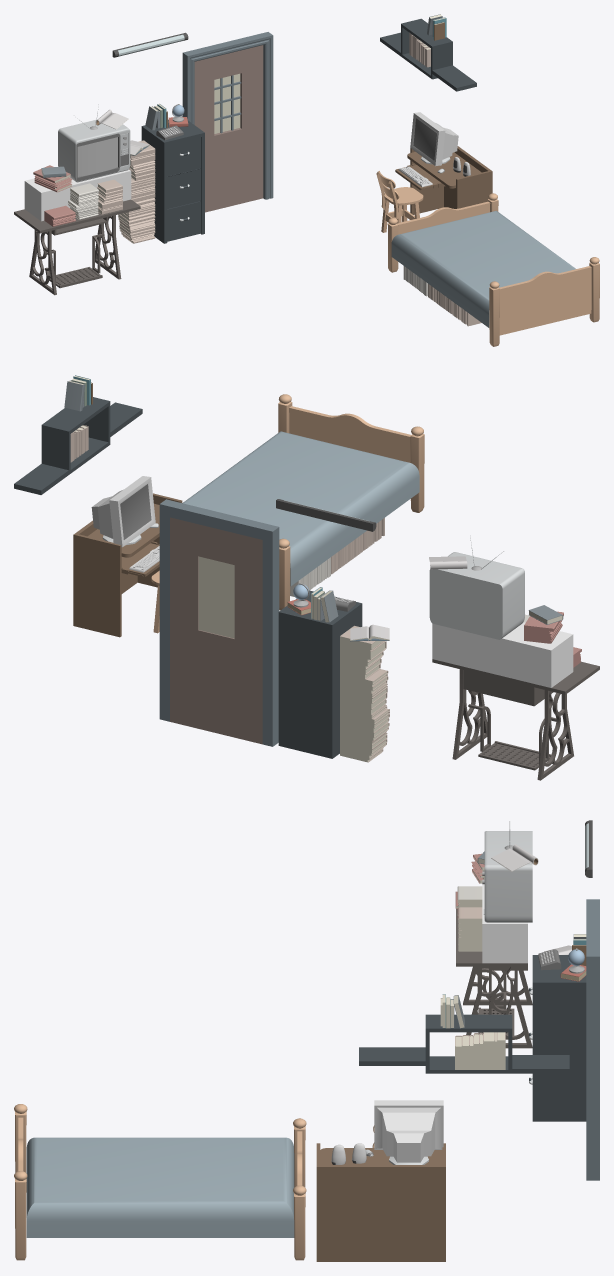
The model's file is Room.fbx.
The picture shows the model from 3 angles, top to bottom: view 1: azimuth 30°, elevation 25°; view 2: azimuth 150°, elevation 25°; view 3: azimuth 270°, elevation 25°; orthographic projection. The views are drawn at different scales.
Visible parts, largest first — view 1: Bed, Door, Filing_Cabinet, Metal_Rack, TV, Desktop_Table, Doorway, Book_Rack, Tall_Book_Pile, TV_Box, Monitor_Head, Chair (+8 smaller); view 2: Bed, Door, Filing_Cabinet, Doorway, Metal_Rack, Desktop_Table, TV, TV_Box, Tall_Book_Pile, Book_Rack, Monitor_Head, Tube_Light (+7 smaller); view 3: Bed, Desktop_Table, Filing_Cabinet, Book_Rack, Monitor_Head, Doorway, TV, Metal_Rack, TV_Box, Book_Set_3, Book_Pile_Vertical_1, Notebook (+1 smaller).
Part boxes in pixels (x1,y1,x2,y2): Bed: (387,193,599,346); Door: (194,45,263,212); Filing_Cabinet: (141,116,204,243); Metal_Rack: (14,199,140,295); TV: (58,104,130,182); Desktop_Table: (395,146,492,214); Doorway: (182,32,273,199); Book_Rack: (380,18,476,91); Tall_Book_Pile: (118,140,155,243); TV_Box: (24,169,131,221); Monitor_Head: (410,112,458,166); Chair: (376,171,423,232); Bed: (182,394,424,610); Door: (170,517,262,744); Filing_Cabinet: (278,590,362,758); Doorway: (159,499,279,746); Metal_Rack: (432,659,599,780); Desktop_Table: (73,493,182,637); TV: (429,535,524,639); TV_Box: (432,622,573,687); Tall_Book_Pile: (340,625,389,762); Book_Rack: (14,397,142,494); Monitor_Head: (91,476,155,547); Tube_Light: (276,499,376,531); Bed: (14,1104,306,1260); Desktop_Table: (316,1143,445,1261); Filing_Cabinet: (529,955,586,1121); Book_Rack: (359,1014,569,1073); Monitor_Head: (374,1100,443,1162); Doorway: (586,899,599,1180); TV: (482,821,532,922); Metal_Rack: (456,909,532,1048); TV_Box: (482,884,527,963); Book_Set_3: (455,1032,505,1069); Book_Pile_Vertical_1: (458,907,482,951); Notebook: (491,844,538,871).
Size of the model in its own units: 687 by 309 by 631.
